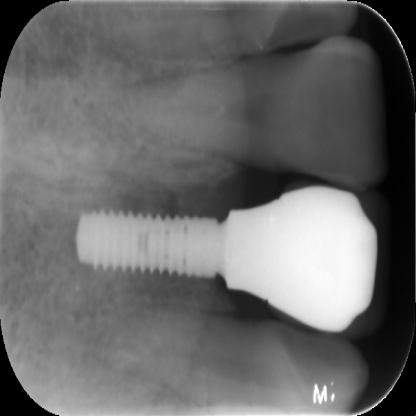ITI: (74, 184, 222, 322)
